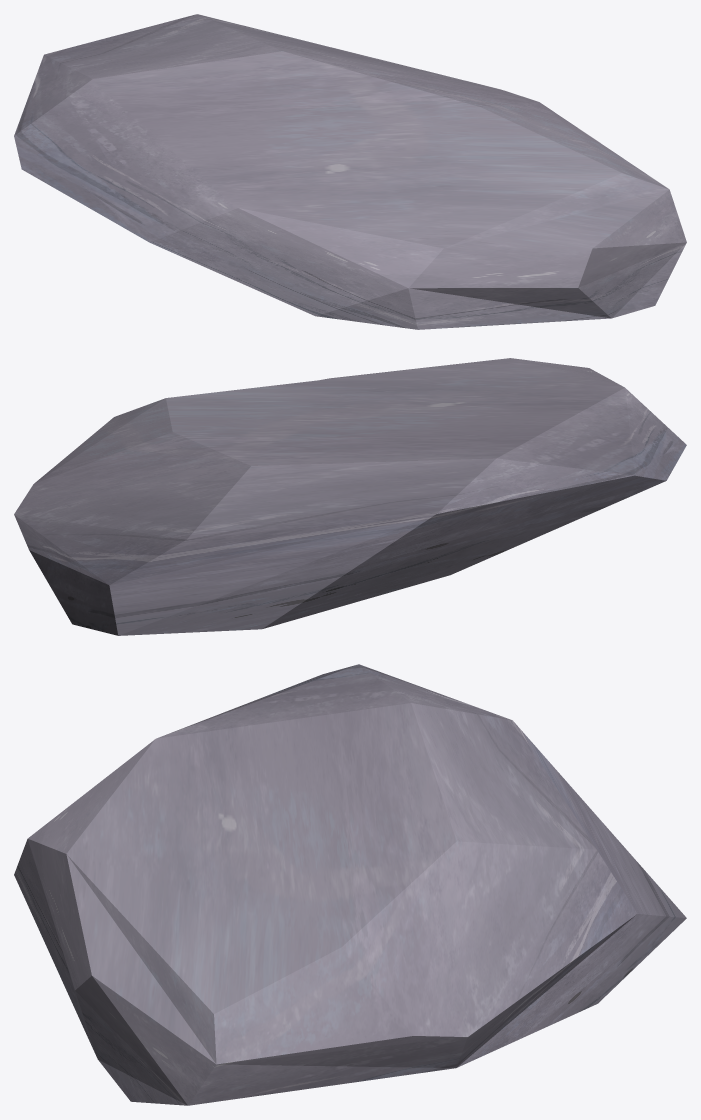
The model's file is rock_2_005.fbx.
The picture shows the model from 3 angles, top to bottom: view 1: azimuth 30°, elevation 25°; view 2: azimuth 150°, elevation 25°; view 3: azimuth 270°, elevation 25°; orthographic projection. The views are drawn at different scales.
Visible parts, largest first — view 1: rock 2.005; view 2: rock 2.005; view 3: rock 2.005.
Boxes of the visible parts, x1,y1,x2,y2 form: rock 2.005: (14,14,686,329); rock 2.005: (14,358,686,635); rock 2.005: (14,664,686,1105).
Size of the model in its own units: 614 by 217 by 637.
